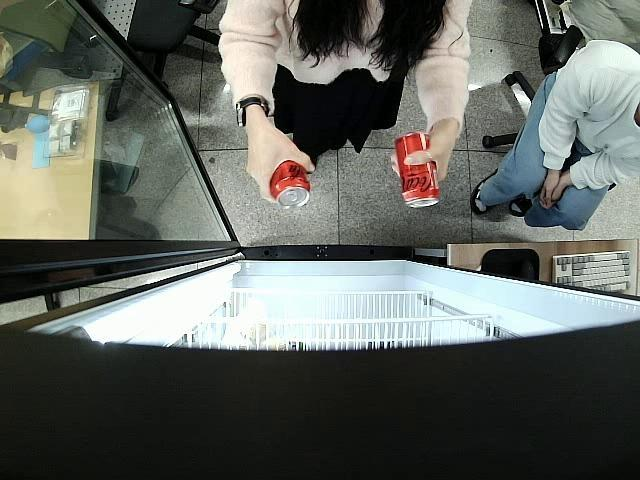11_cocaColaZero: (396, 131, 440, 208), (270, 159, 310, 210)
